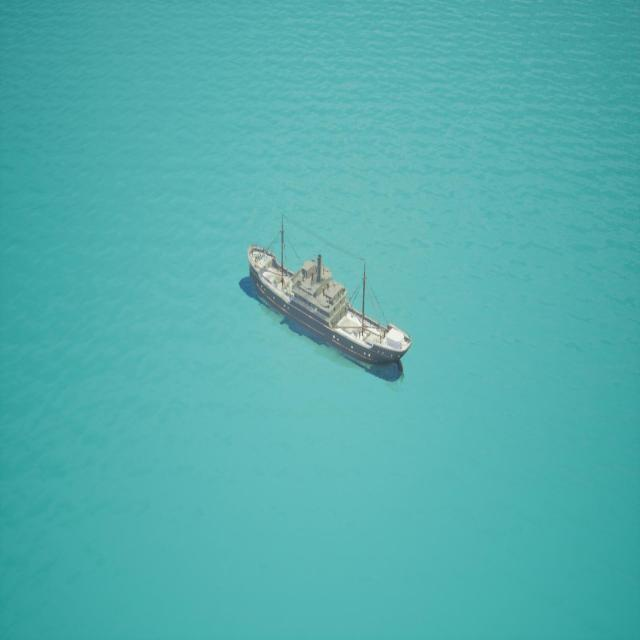fishing ship: (245, 227, 414, 381)
